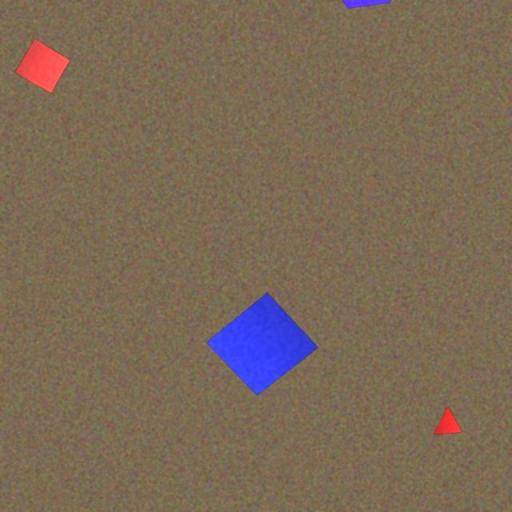BLUE_SQUARE: (206, 292, 318, 397)
RED_SQUARE: (14, 38, 70, 94)
